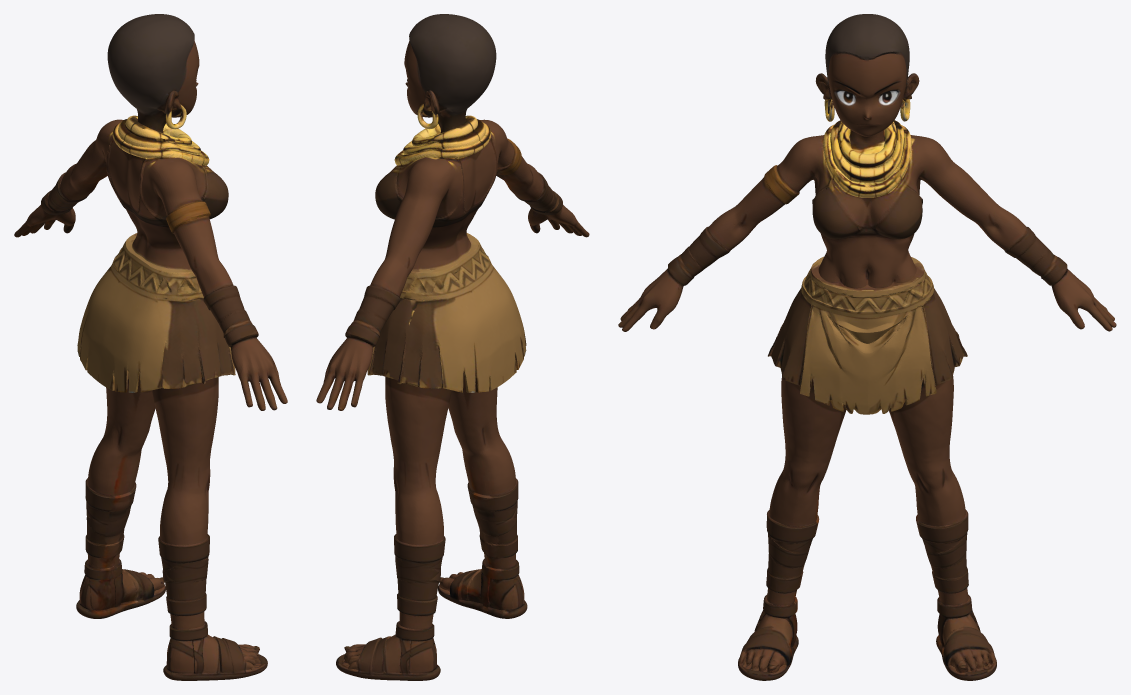
File: tribal+woman+3d+model.glb
The picture shows the model from 3 angles, left to right: view 1: azimuth 30°, elevation 25°; view 2: azimuth 150°, elevation 25°; view 3: azimuth 270°, elevation 25°; orthographic projection.
Visible parts, largest first — view 1: tripo_node_84194da1-6375-45b6-a3db-bb6a5bf01c92; view 2: tripo_node_84194da1-6375-45b6-a3db-bb6a5bf01c92; view 3: tripo_node_84194da1-6375-45b6-a3db-bb6a5bf01c92.
Boxes of the visible parts, bbox=[...] form: tripo_node_84194da1-6375-45b6-a3db-bb6a5bf01c92: bbox=[14, 14, 287, 680]; tripo_node_84194da1-6375-45b6-a3db-bb6a5bf01c92: bbox=[316, 14, 589, 680]; tripo_node_84194da1-6375-45b6-a3db-bb6a5bf01c92: bbox=[618, 14, 1116, 680].
Size of the model in its own units: 0.1929 by 1 by 0.712.
Materials: 1 (1 with a texture image).
